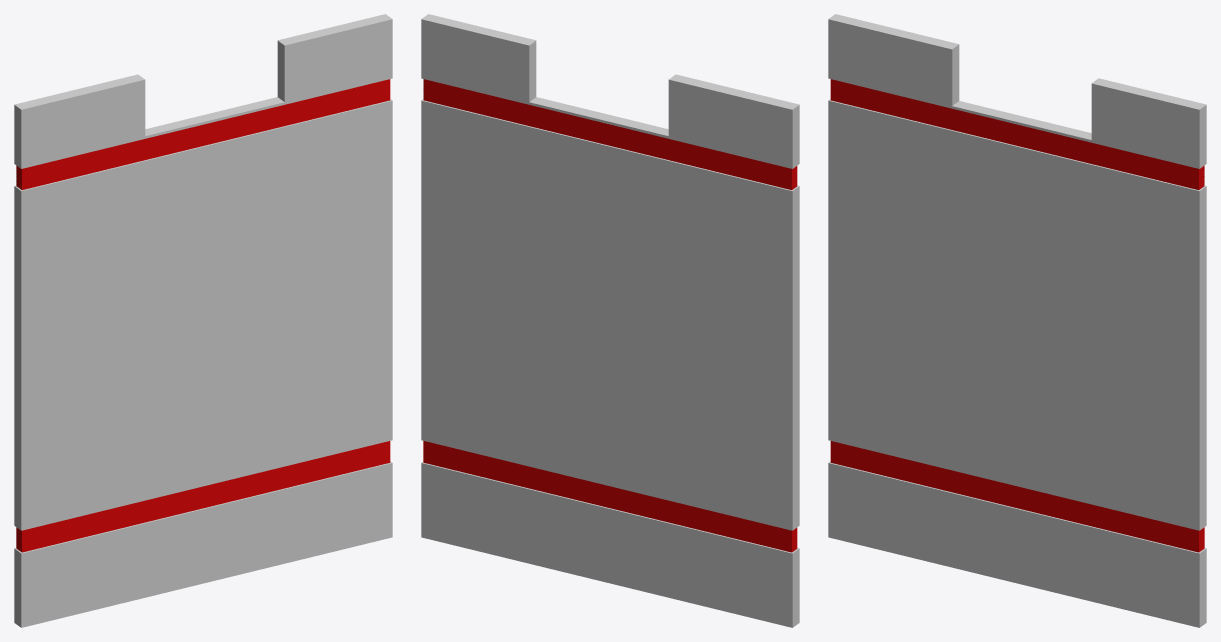
File: Wall01_LP_FBX.fbx
3 views of the same model, side by side, from view 1: azimuth 30°, elevation 25°; view 2: azimuth 150°, elevation 25°; view 3: azimuth 330°, elevation 25° (orthographic).
Parts seen in each view (by area): view 1: pCube27; view 2: pCube27; view 3: pCube27.
Part boxes in pixels (left/top/right/bottom): pCube27: left=14, top=14, right=392, bottom=627; pCube27: left=421, top=14, right=799, bottom=627; pCube27: left=828, top=14, right=1206, bottom=627.
Bounding box in the file's own units: 300 × 400 × 10.
